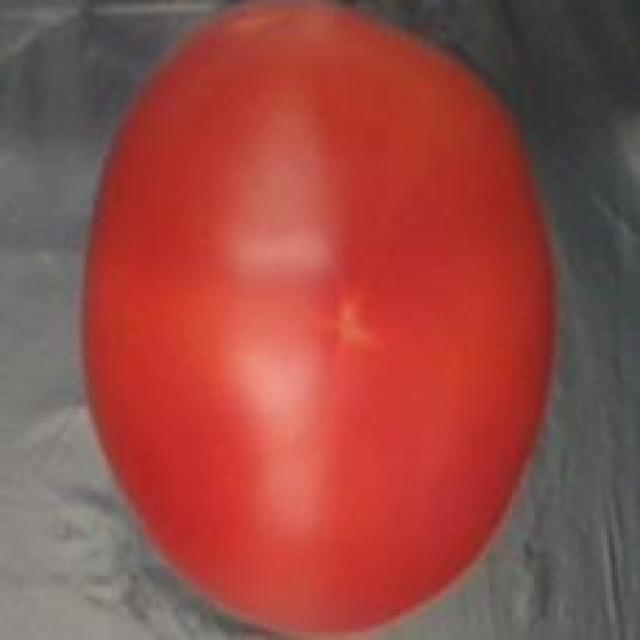ripe tomato: (64, 0, 570, 640)
